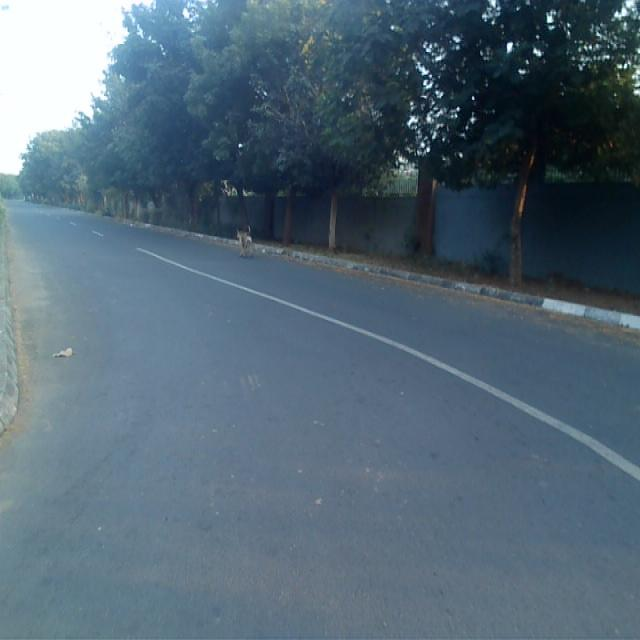lane: (0, 202, 640, 640)
